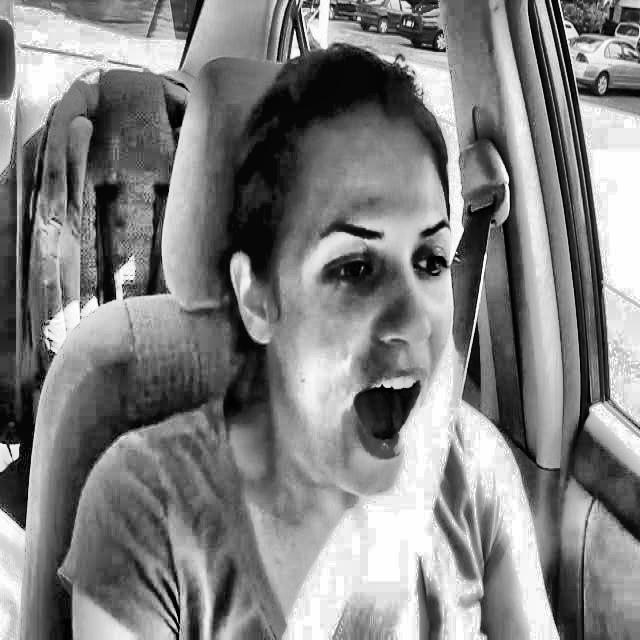open_eyes: (312, 241, 387, 293), (403, 236, 468, 295)
open_mouth: (333, 358, 437, 467)
